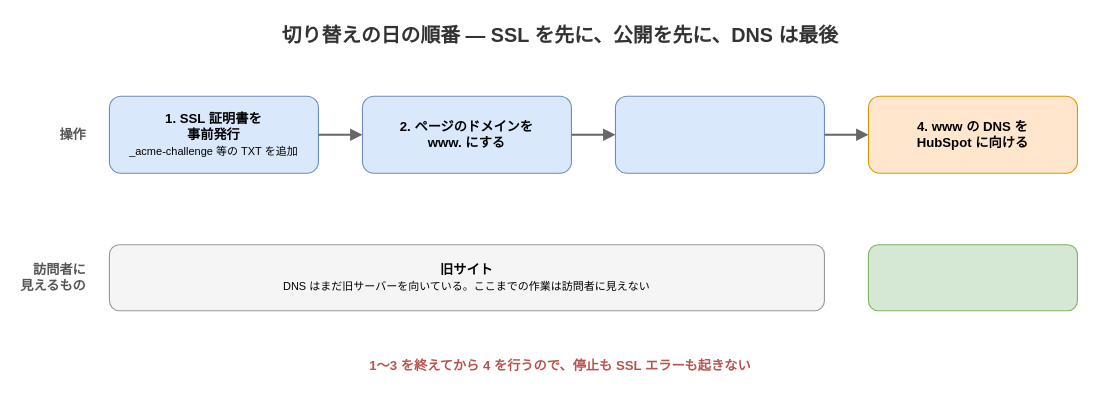
Some shapes in this 1097 by 400 pixel diagram are drawn without their labels. The box of each missing label's shape, as (x1, y1, x2, y2) in pixels:
3. ページを公開する: (614, 95, 824, 173)
新サイト TTL 分（例: 5 分）で切り替わる: (867, 244, 1077, 311)
